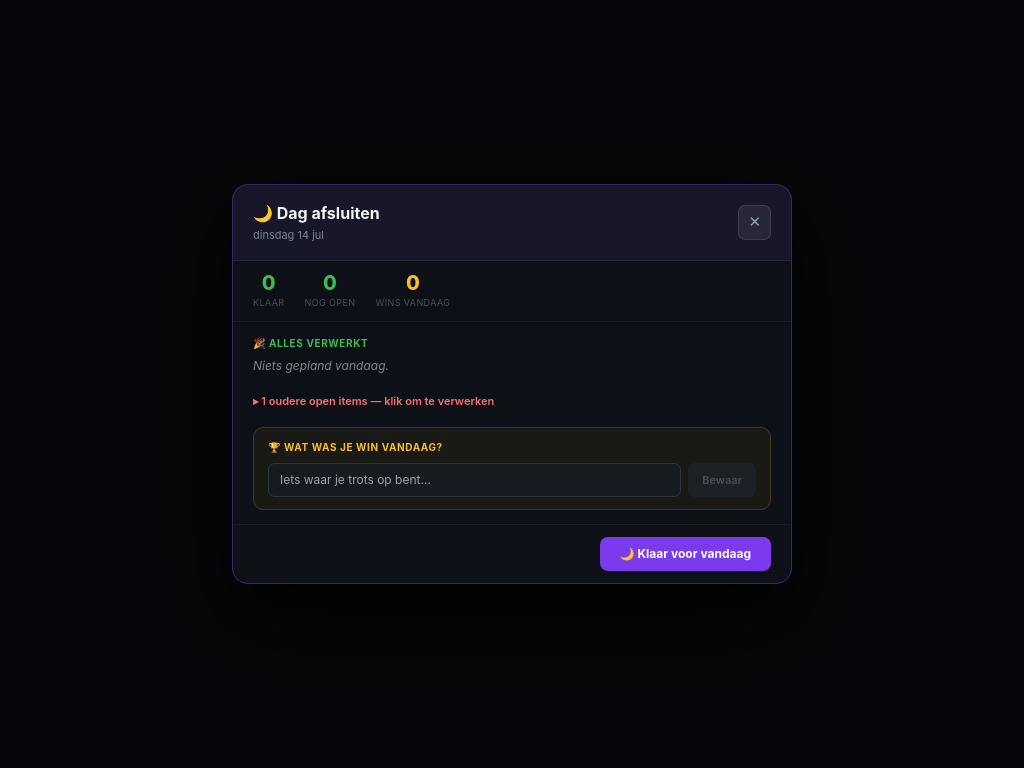
Test: ShutdownModal › expands older-open section on click
Click the button "▸ 1 oudere open items — klik om te verwerken".
click(374, 402)  # box [253,393,494,410]
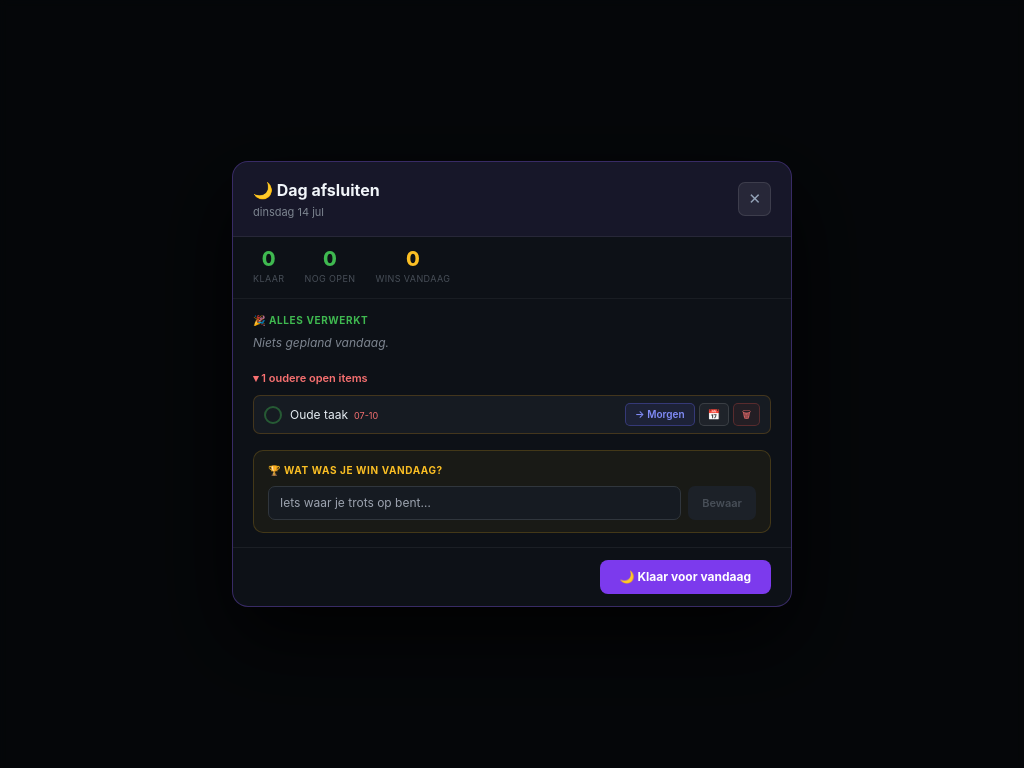
Result: the text "Oude taak" is shown at [290,407,348,422]
